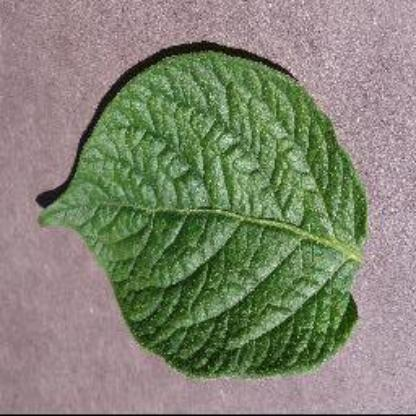Healthy-plant: (31, 37, 382, 385)
